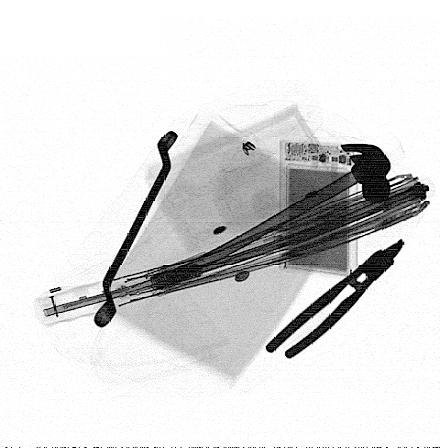Hammer: (148, 144, 392, 291)
Pliers: (264, 239, 404, 361)
Powerbank: (278, 139, 359, 275)
Wrench: (94, 129, 178, 327)
